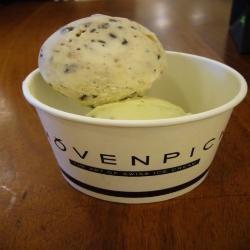icecream: (34, 14, 226, 133)
